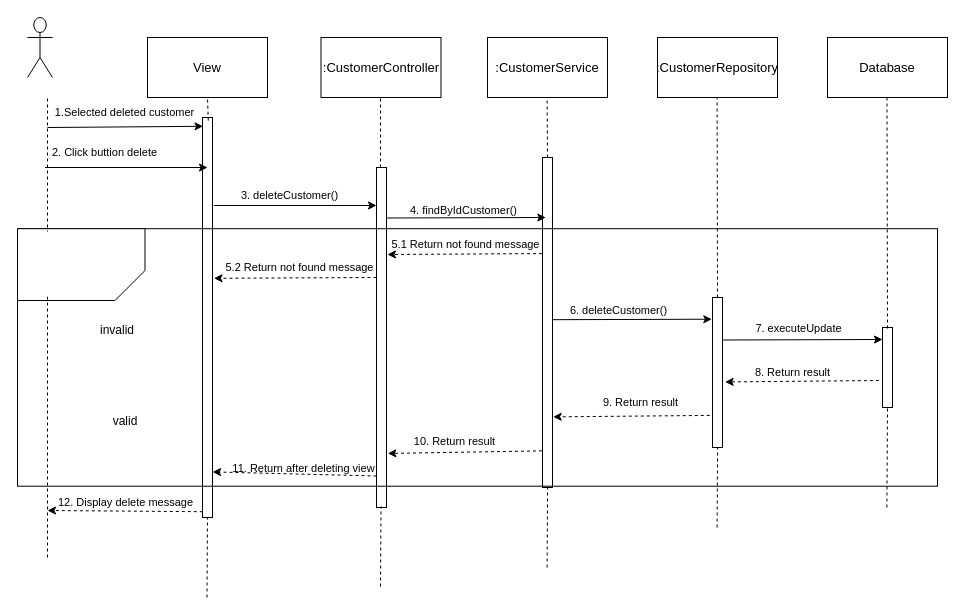
This 965x616 diagram has some shape labels left out. Each missing label, with the box of its shape:
Admin: (26, 16, 52, 78)
Delete customer by id: (23, 231, 117, 296)
